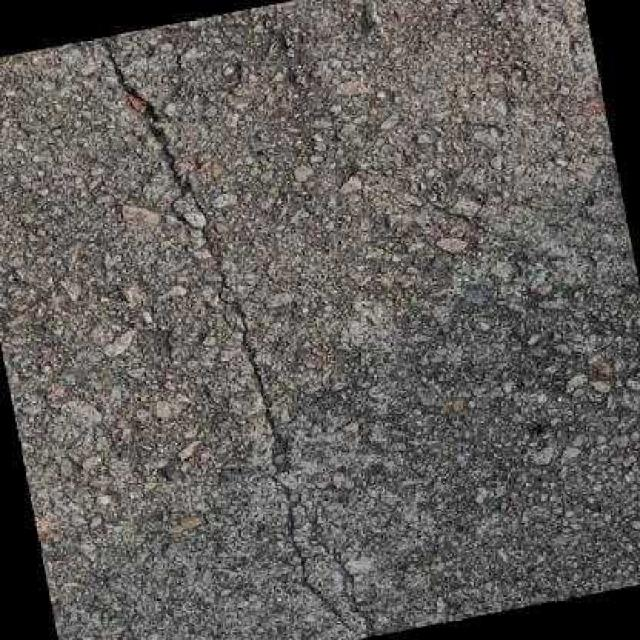D00: (97, 44, 361, 632)
